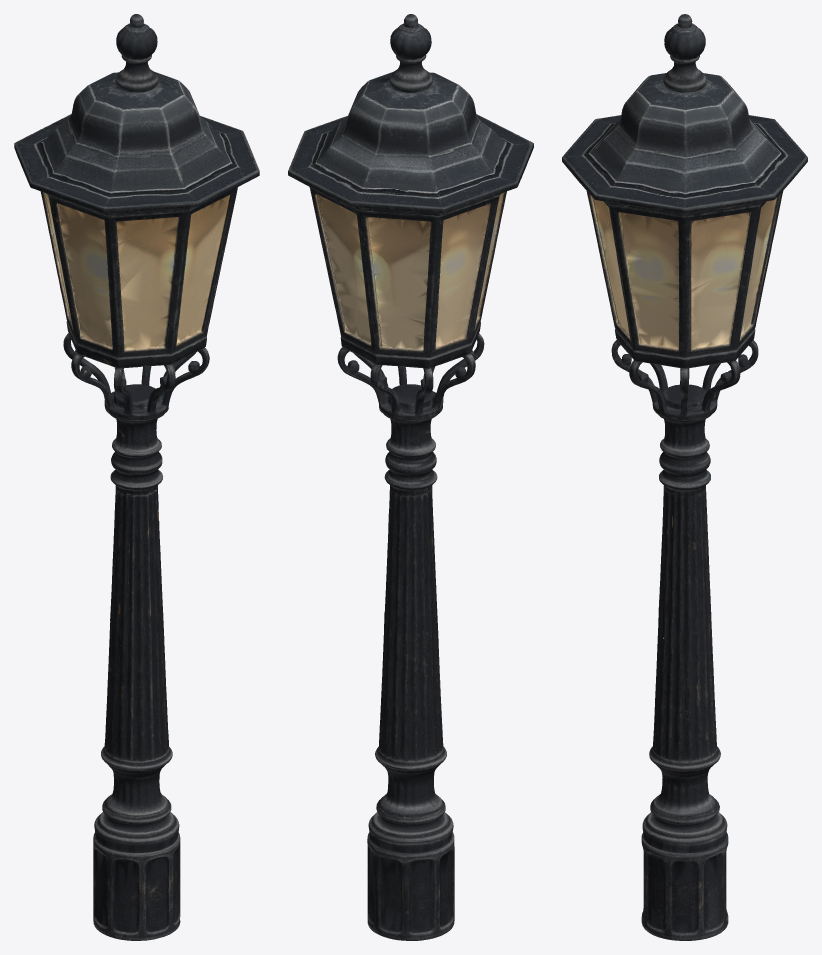
The model's file is lampione_ghisa_lod0.glb.
The picture shows the model from 3 angles, left to right: view 1: azimuth 30°, elevation 25°; view 2: azimuth 150°, elevation 25°; view 3: azimuth 270°, elevation 25°; orthographic projection.
Visible parts, largest first — view 1: Mesh_0; view 2: Mesh_0; view 3: Mesh_0.
Boxes of the visible parts, <box> form: Mesh_0: <box>14,14,259,940</box>; Mesh_0: <box>288,14,533,940</box>; Mesh_0: <box>562,14,807,940</box>.
Size of the model in its own units: 0.736 by 3 by 0.7357.
1 material, 1 textured.
